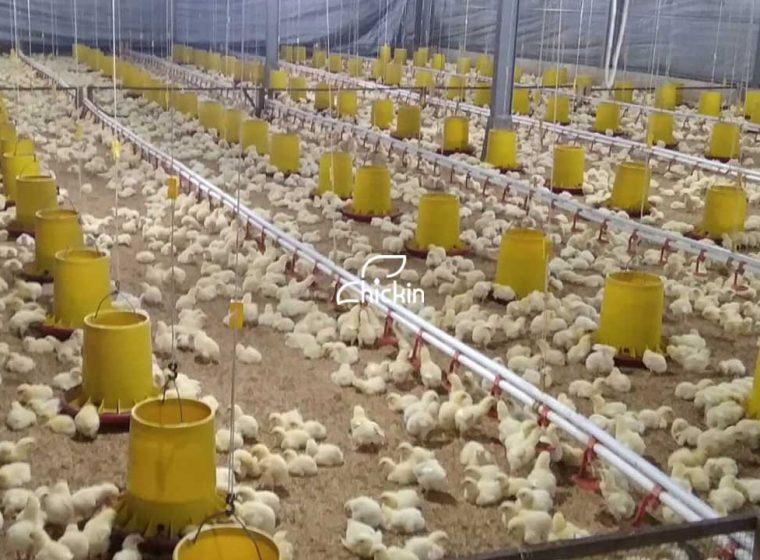chicken: (497, 503, 552, 542), (348, 407, 384, 447), (458, 396, 499, 430), (344, 518, 381, 554), (374, 456, 413, 487), (458, 477, 500, 504), (537, 450, 558, 496), (76, 403, 101, 439), (229, 406, 258, 437), (271, 407, 304, 432), (7, 399, 34, 428)
